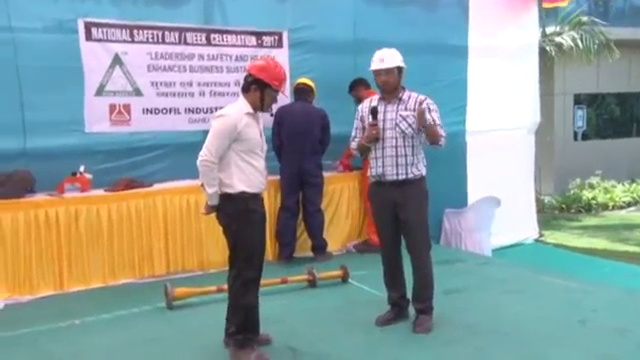helmet: (248, 56, 292, 100), (367, 47, 409, 72), (295, 76, 319, 98)
helmet_off: (345, 75, 381, 109)
helmet_on: (237, 56, 291, 119), (366, 46, 409, 104), (290, 75, 319, 108)
person: (196, 55, 290, 360), (349, 47, 448, 334), (272, 75, 335, 266)
